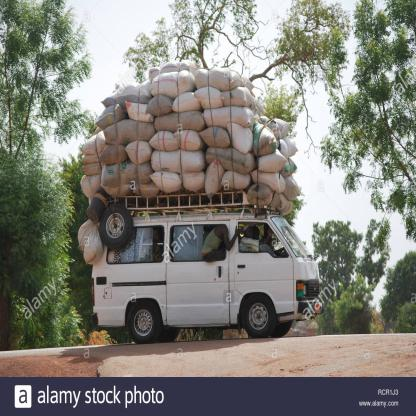overloaded-truck: (78, 51, 317, 348)
